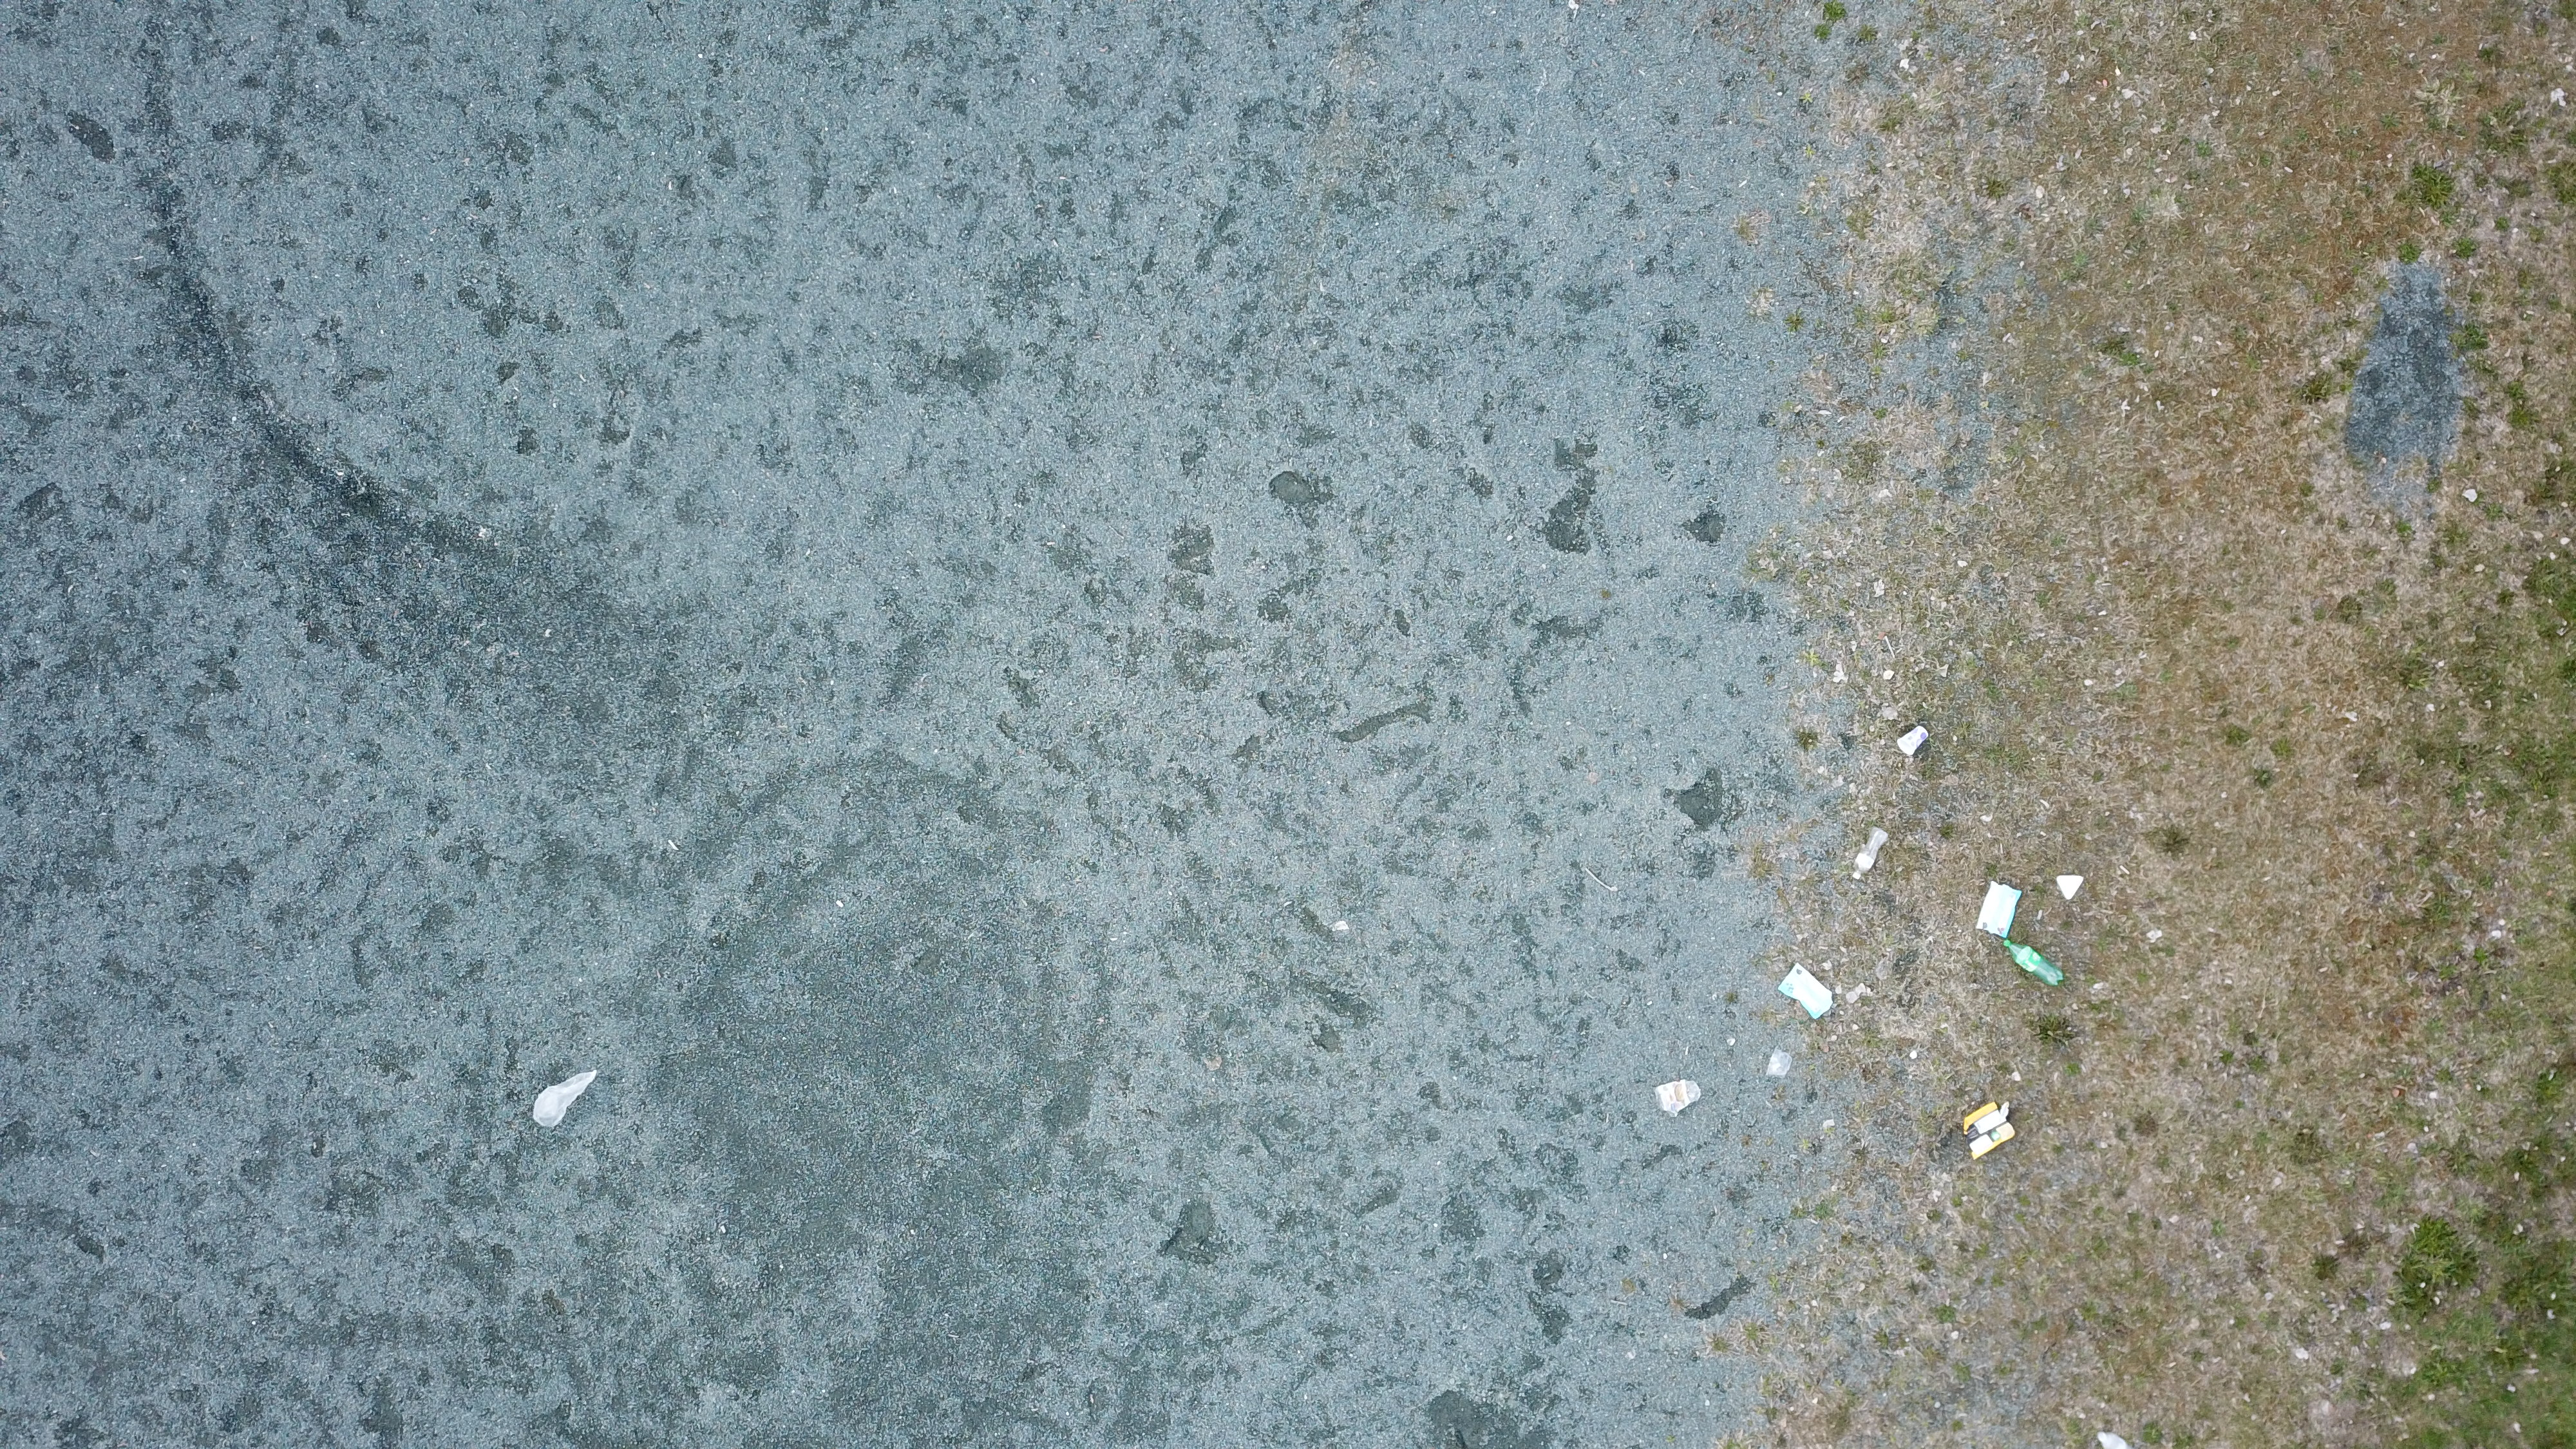Plastic: (529, 1070, 600, 1134), (1776, 961, 1835, 1019), (1964, 1099, 2015, 1162), (1976, 879, 2024, 938), (1658, 1077, 1702, 1120), (1897, 725, 1932, 763), (1766, 1049, 1794, 1079), (2058, 876, 2088, 904)
PlasticBottle: (2001, 939, 2065, 987), (1851, 824, 1890, 881), (2088, 1422, 2148, 1449)
